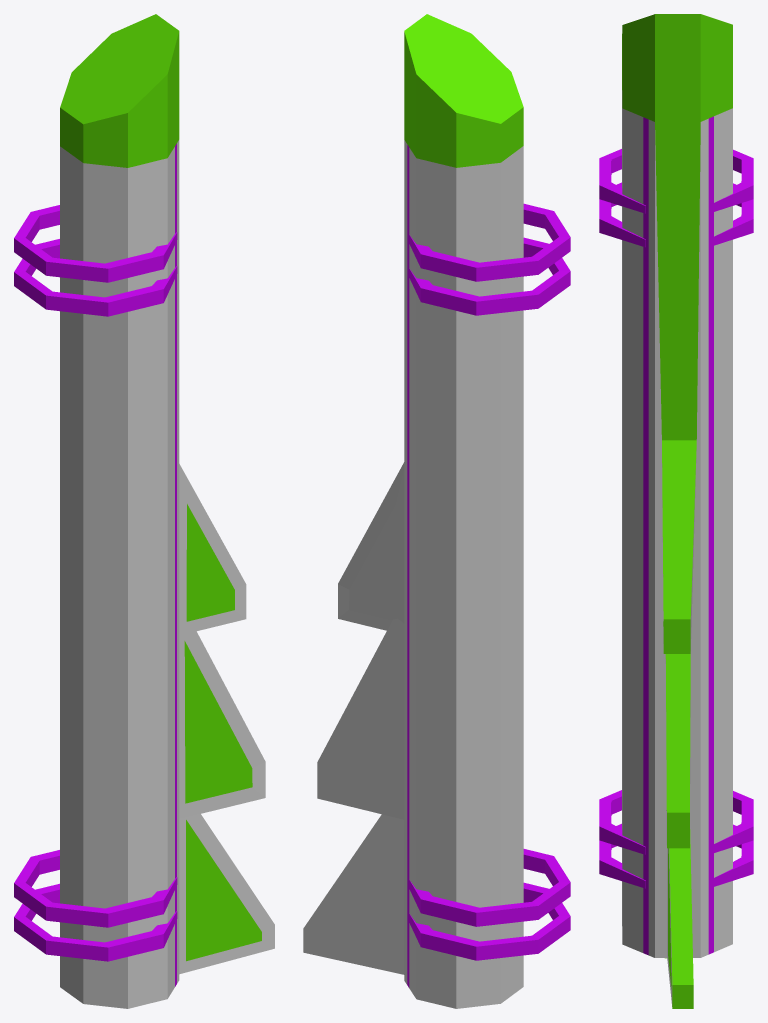
File: missile_lv10.fbx
The picture shows the model from 3 angles, left to right: view 1: azimuth 30°, elevation 25°; view 2: azimuth 150°, elevation 25°; view 3: azimuth 270°, elevation 25°; orthographic projection.
Visible parts, largest first — view 1: missile_lv10; view 2: missile_lv10; view 3: missile_lv10.
Part boxes in pixels (box(x1,y1,x2,y2)): missile_lv10: box(14, 14, 274, 1008); missile_lv10: box(303, 14, 570, 1008); missile_lv10: box(599, 14, 753, 1008).
Bounding box in the file's own units: 66.1 × 247 × 36.57.
